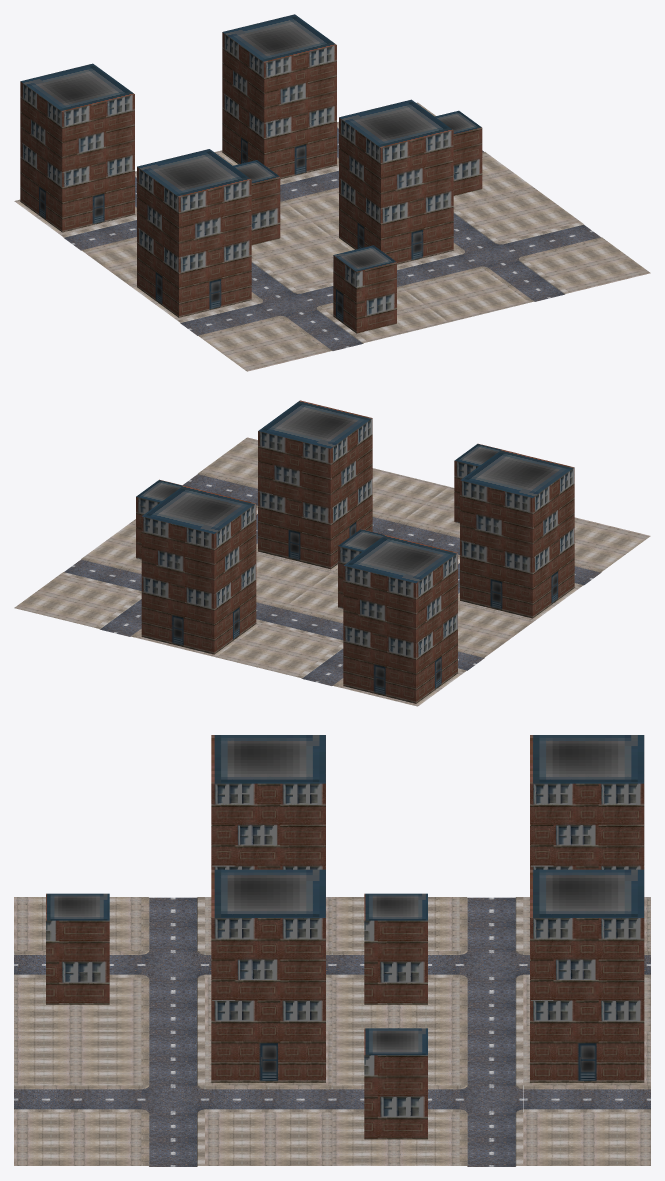
Rendered from StreetTile.001.fbx.
The picture shows the model from 3 angles, top to bottom: view 1: azimuth 30°, elevation 25°; view 2: azimuth 150°, elevation 25°; view 3: azimuth 270°, elevation 25°; orthographic projection. The views are drawn at different scales.
Parts seen in each view (by area): view 1: Center, Outside, StraightRoad, CrossRoads; view 2: Center, Outside, StraightRoad; view 3: Center, StraightRoad, Outside, CrossRoads.
Part boxes in pixels (x1=…): Center: x1=14, y1=14, x2=650, y2=371; Outside: x1=233, y1=99, x2=459, y2=290; StraightRoad: x1=61, y1=122, x2=603, y2=351; CrossRoads: x1=258, y1=242, x2=522, y2=317; Center: x1=14, y1=437, x2=650, y2=706; Outside: x1=256, y1=400, x2=459, y2=619; StraightRoad: x1=61, y1=471, x2=603, y2=686; Center: x1=14, y1=735, x2=650, y2=1165; StraightRoad: x1=14, y1=897, x2=650, y2=1166; Outside: x1=205, y1=869, x2=459, y2=1085; CrossRoads: x1=141, y1=951, x2=523, y2=1112.
Bounding box in the file's own units: 8000 × 2291 × 8002.
